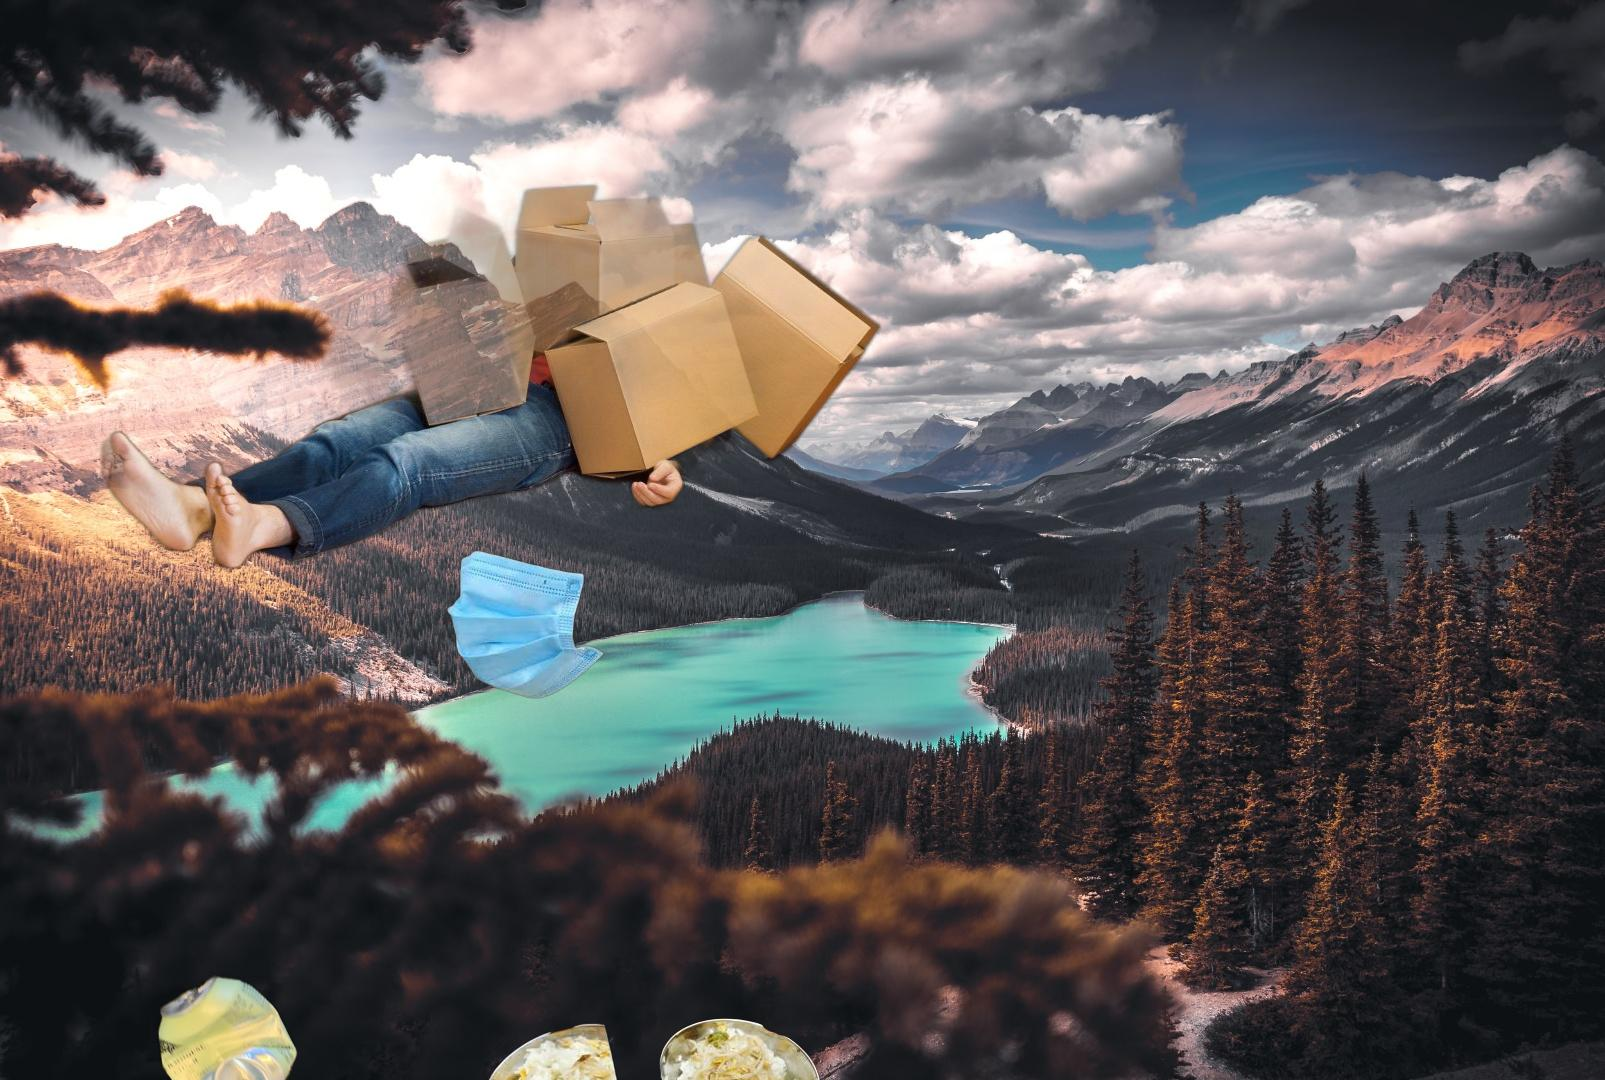biological: (483, 1015, 852, 1080)
metal-cans: (153, 970, 301, 1080)
trash: (443, 548, 607, 702)
trashbox-cardboard: (78, 158, 888, 574)
